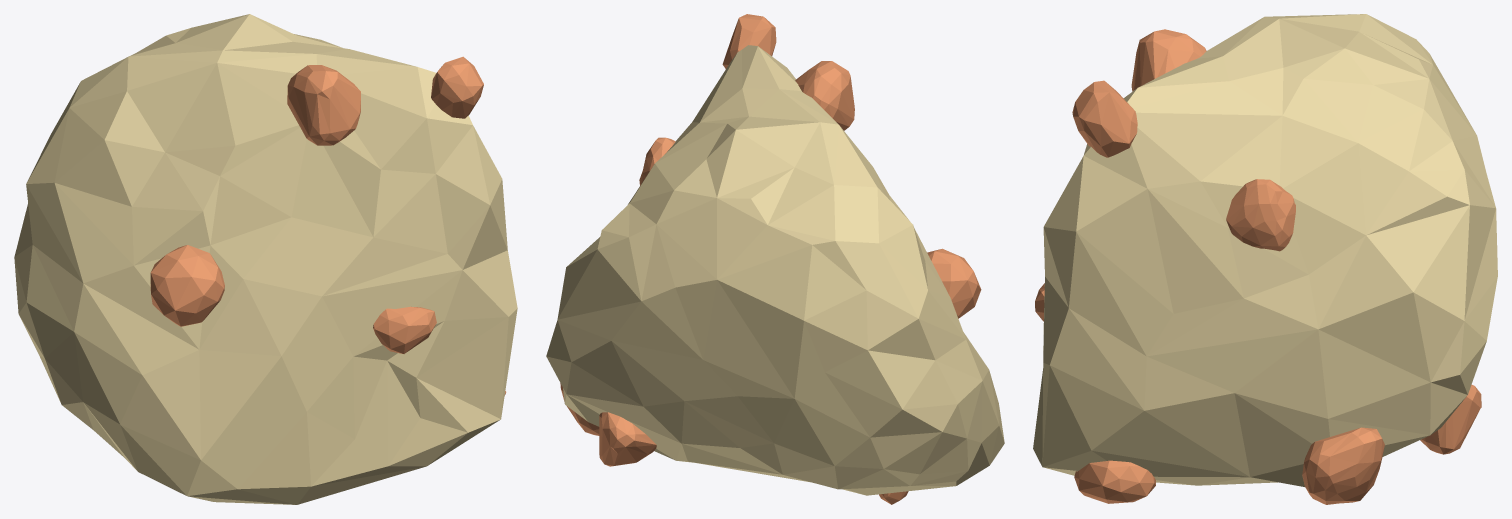
The model's file is StoneOre (23).fbx.
The picture shows the model from 3 angles, left to right: view 1: azimuth 30°, elevation 25°; view 2: azimuth 150°, elevation 25°; view 3: azimuth 270°, elevation 25°; orthographic projection. The views are drawn at different scales.
Parts seen in each view (by area): view 1: Asteroid310; view 2: Asteroid310; view 3: Asteroid310.
Boxes of the visible parts, x1=… form: Asteroid310: x1=14, y1=14, x2=517, y2=504; Asteroid310: x1=546, y1=14, x2=1004, y2=504; Asteroid310: x1=1033, y1=14, x2=1497, y2=504.
Size of the model in its own units: 615 by 594 by 558.
